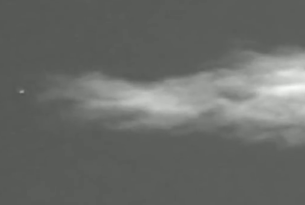Target: (20, 91, 24, 93)
